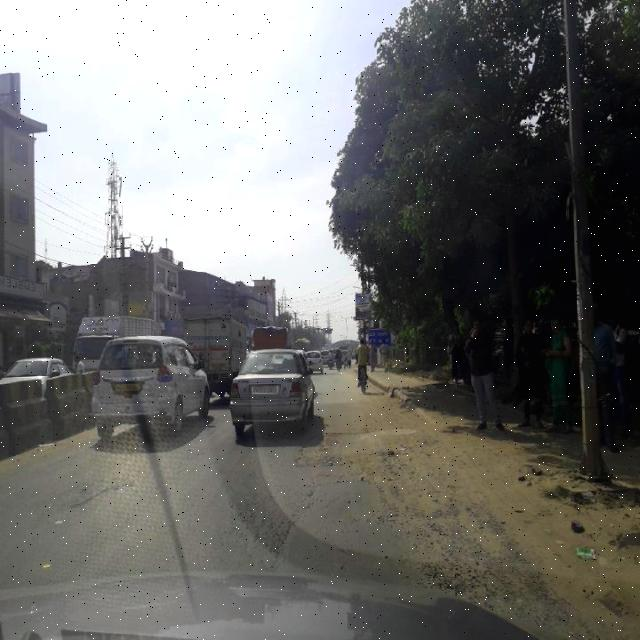D00: (67, 479, 136, 509)
D20: (222, 487, 302, 558)
D40: (374, 492, 524, 577), (298, 428, 464, 492)
